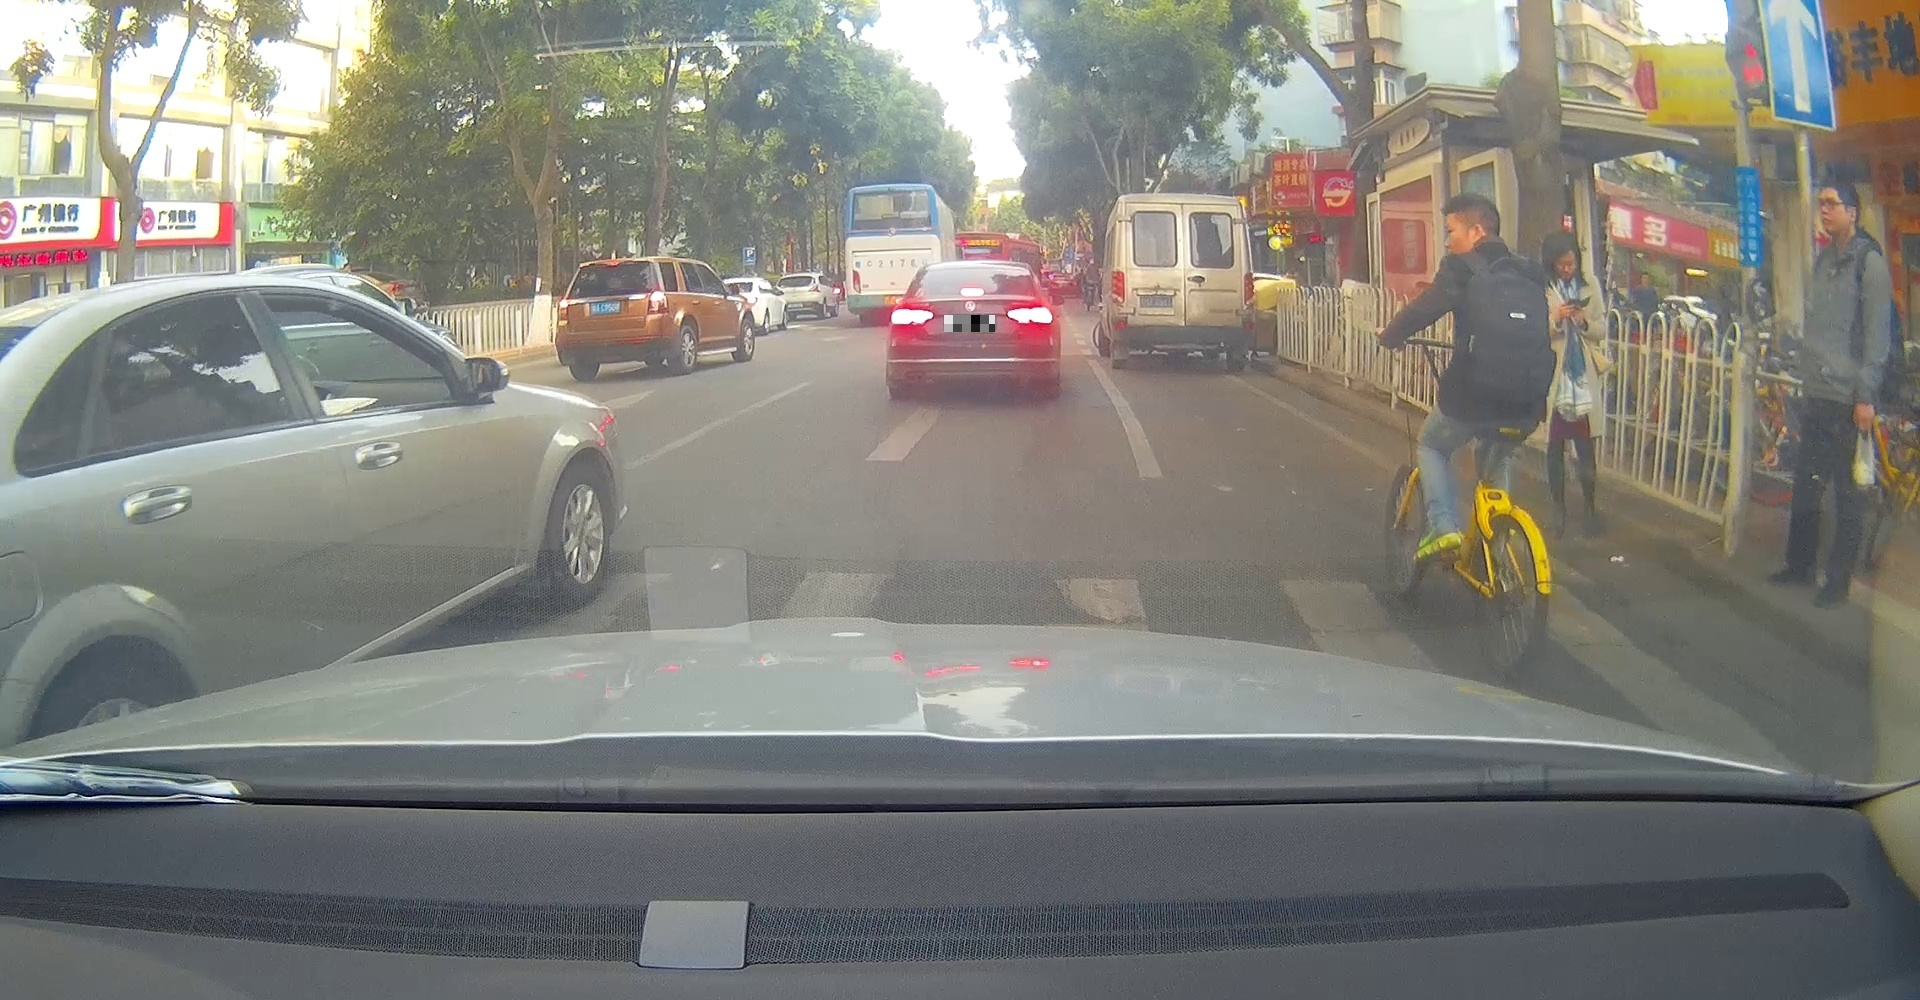L_light: (890, 308, 935, 325), (1111, 272, 1124, 305), (557, 299, 569, 320)
R_light: (1006, 305, 1054, 324), (648, 291, 669, 313), (1243, 272, 1255, 306)
T_light: (960, 287, 984, 296), (1170, 203, 1194, 209), (606, 261, 618, 266)
day-brake: (886, 261, 1060, 398), (554, 258, 670, 383)
day-no: (1110, 193, 1255, 367)
plate_1: (943, 315, 996, 332)
